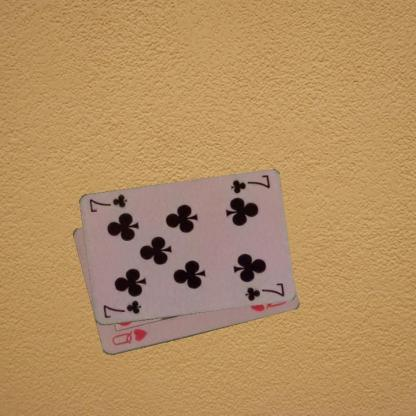7c: (228, 172, 271, 195), (100, 298, 143, 320)
Qh: (109, 326, 149, 347)
